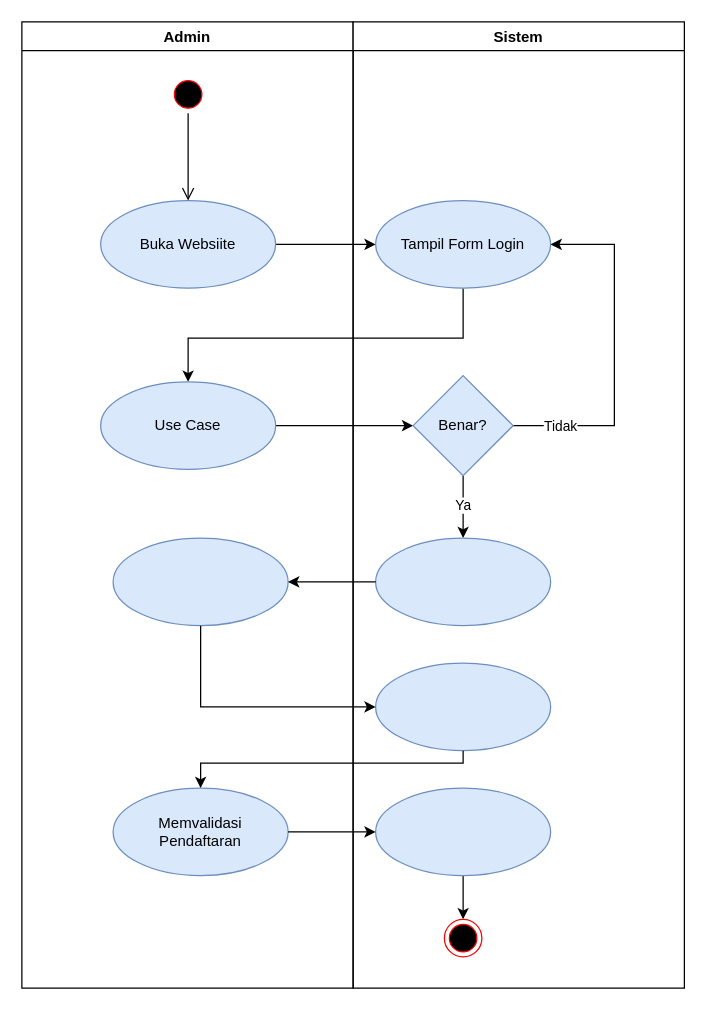
Image size: 706x1010. Some labels were removed from this diagram. The centre of each missing label's shape, as x and y in pixels:
Menampilkan Nama siswa/siswi pendaftar olimpiade: [462,706]
pendaftaran disimpan: [462,831]
Pendaftaran Ollimpiade: [200,581]
Tampil Menu Utama: [462,581]
